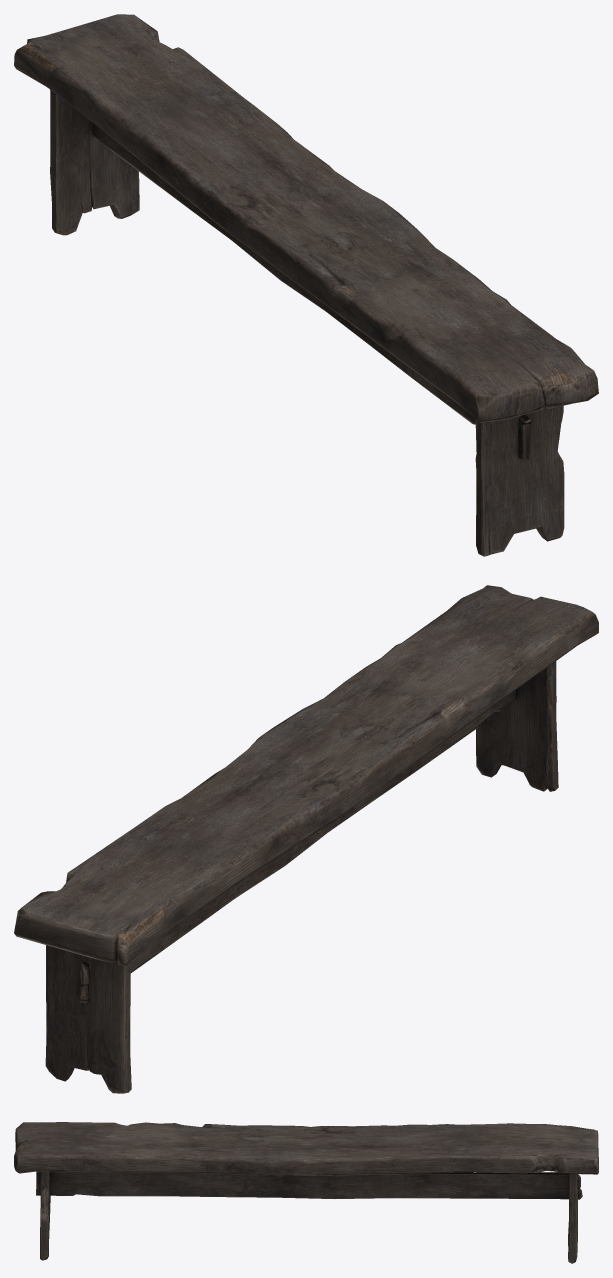
File: SM_Bench.FBX
3 renders of one model, top to bottom at view 1: azimuth 30°, elevation 25°; view 2: azimuth 150°, elevation 25°; view 3: azimuth 270°, elevation 25°, orthographic. The views are drawn at different scales.
Parts seen in each view (by area): view 1: SM_Bench_LOD0; view 2: SM_Bench_LOD0; view 3: SM_Bench_LOD0.
Part boxes in pixels (x1,y1,x2,y2): SM_Bench_LOD0: (14, 14, 598, 556); SM_Bench_LOD0: (14, 585, 598, 1093); SM_Bench_LOD0: (14, 1122, 598, 1263).
Size of what is drawn, in the model's own units: 32.7 by 206 by 44.54.
